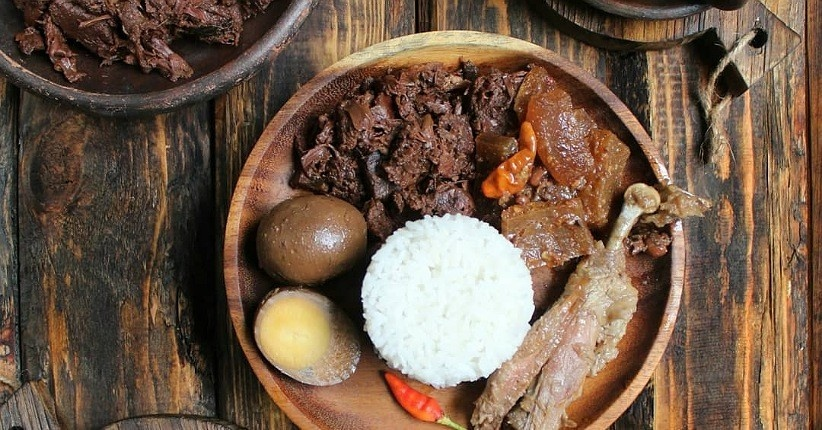gudeg: (273, 67, 627, 417)
